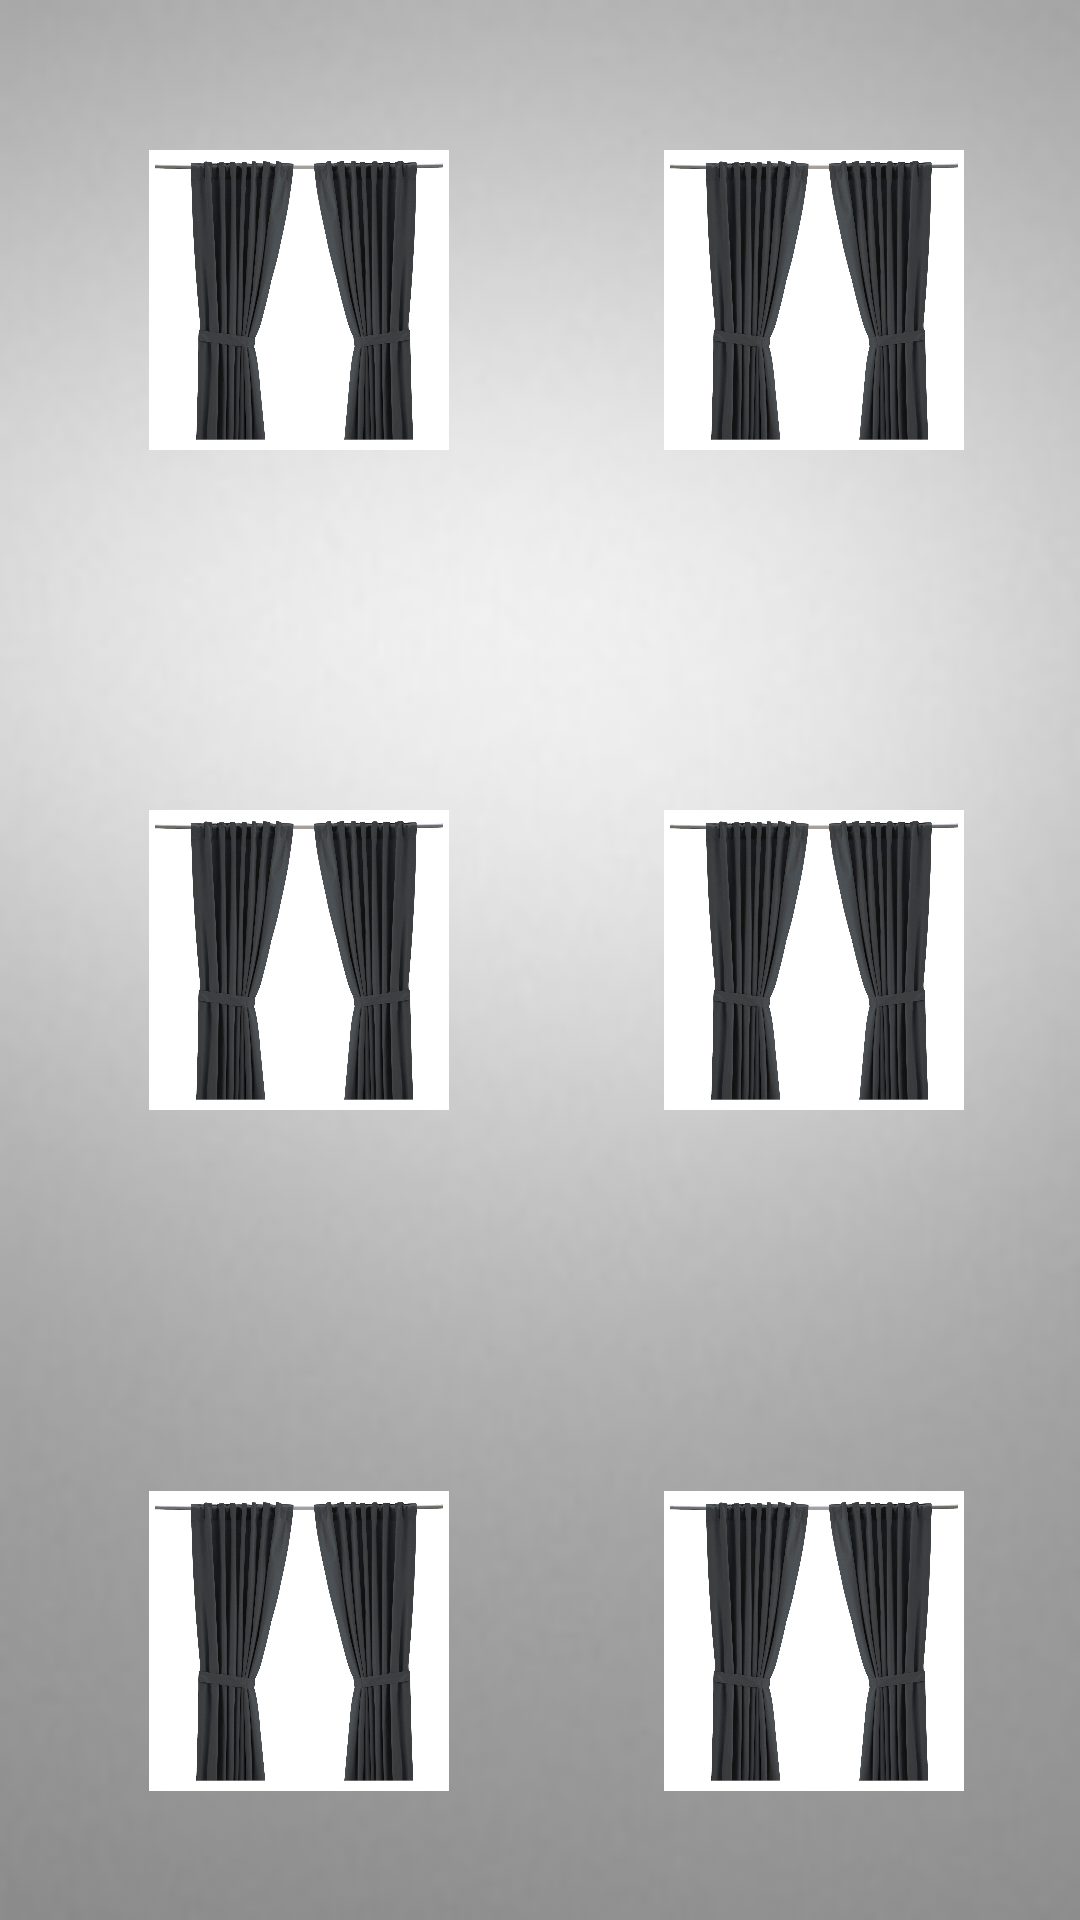

Where to tap for icons on this 1080w x 1920h app screen, as [x,y]:
curtain: [299,300], [814,300], [299,960], [814,960], [299,1641], [814,1641]
